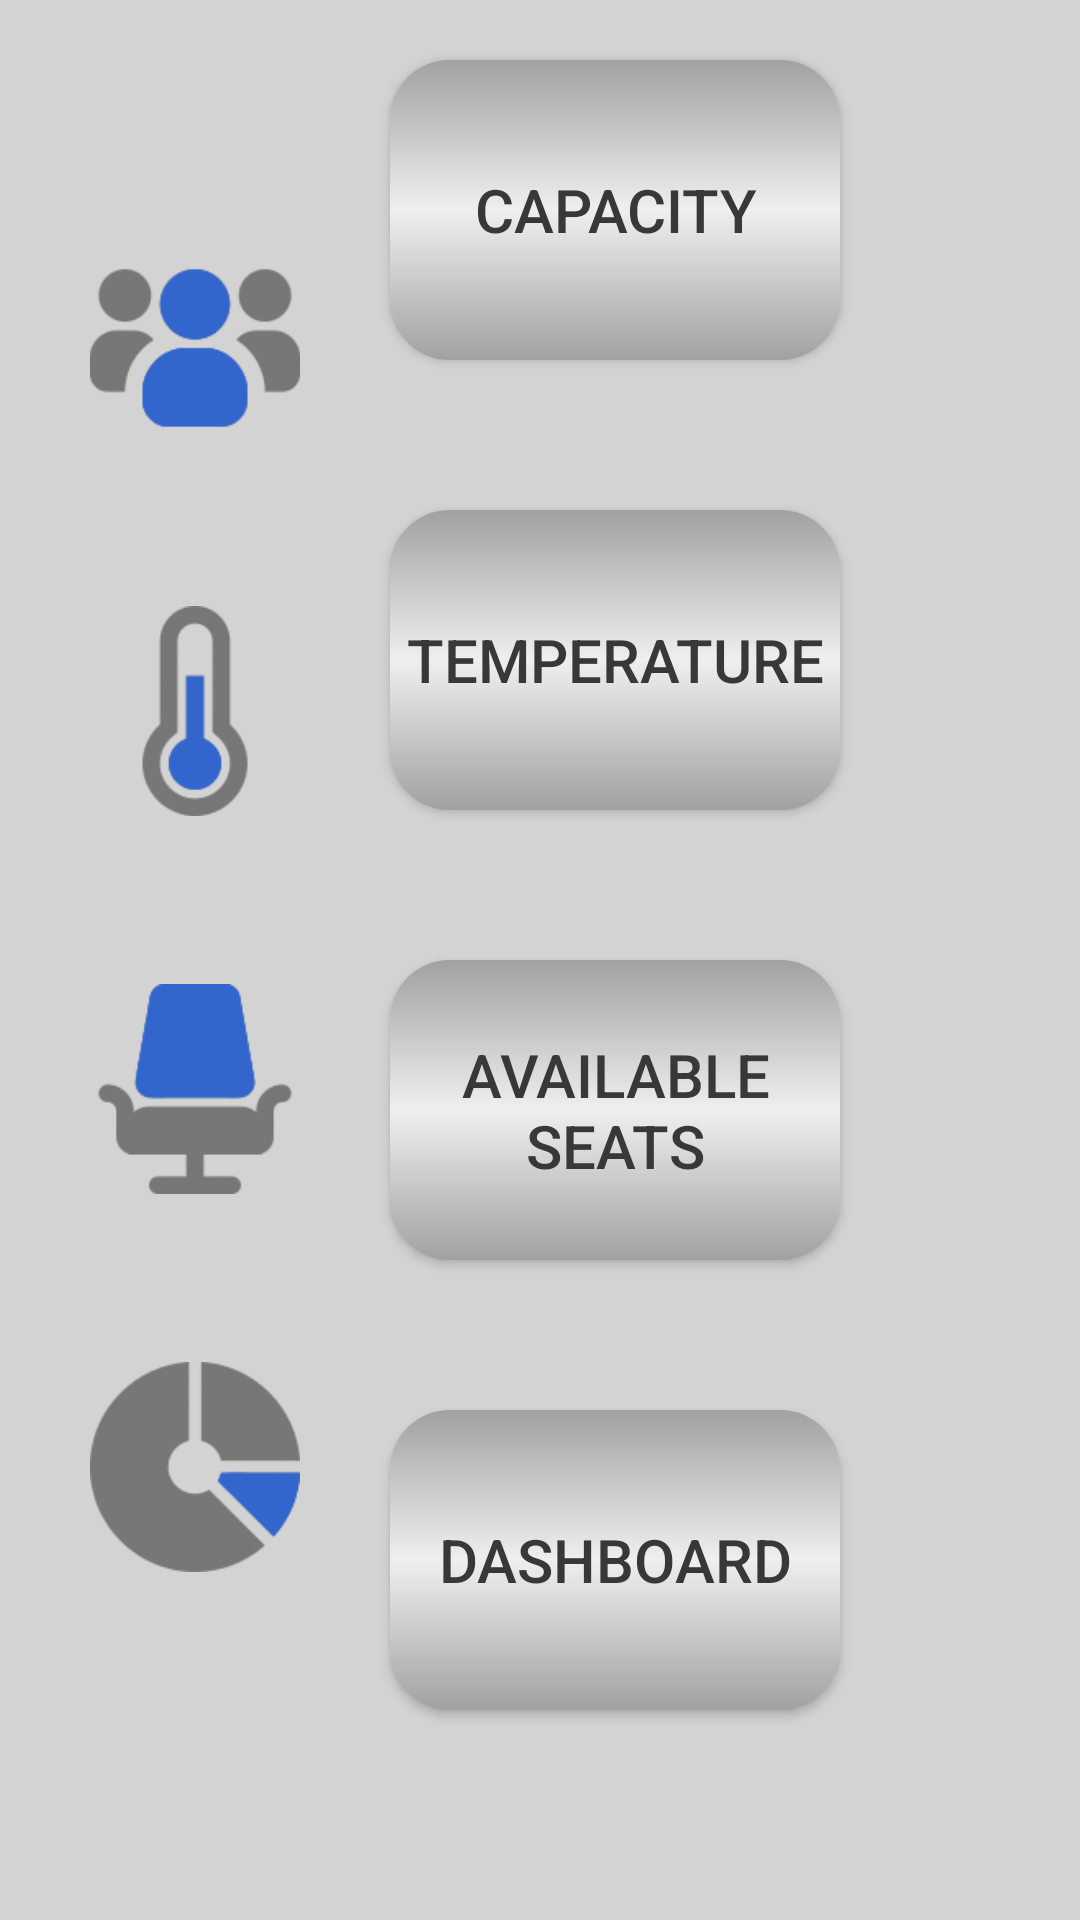

Named icons in this screenshot (1080 × 1920) and their bounding boxes, (x1, y1, x2, y2):
groupusers: (90, 269, 300, 427)
officechair: (98, 984, 292, 1194)
piegraph: (90, 1362, 300, 1572)
thermometer: (142, 606, 248, 816)
